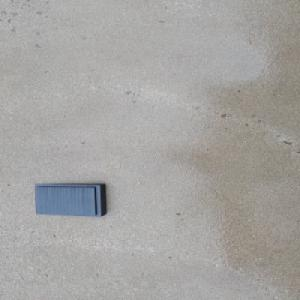PlasticPart: (33, 182, 107, 217)
